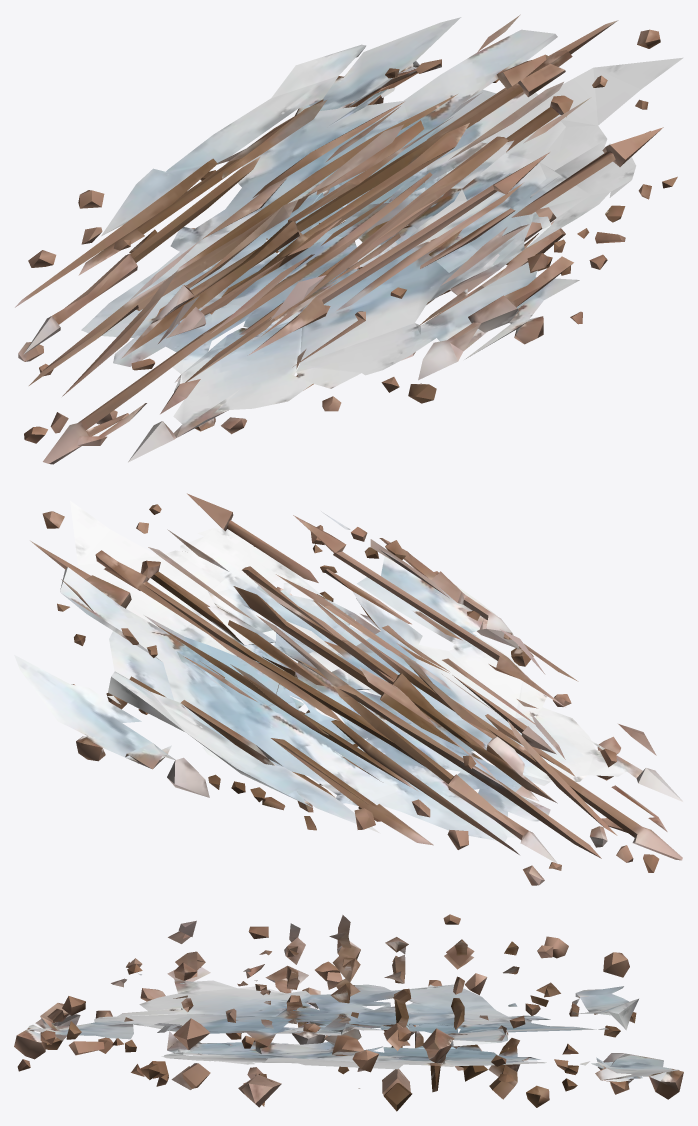
The model's file is 戰場箭雨.glb.
The picture shows the model from 3 angles, top to bottom: view 1: azimuth 30°, elevation 25°; view 2: azimuth 150°, elevation 25°; view 3: azimuth 270°, elevation 25°; orthographic projection. The views are drawn at different scales.
Parts seen in each view (by area): view 1: geometry_0; view 2: geometry_0; view 3: geometry_0.
Part boxes in pixels (x1=…): geometry_0: x1=15, y1=14, x2=683, y2=464; geometry_0: x1=14, y1=493, x2=682, y2=885; geometry_0: x1=14, y1=914, x2=683, y2=1111.
Bounding box in the file's own units: 1 × 0.367 × 0.7892.
Materials: 1 (1 with a texture image).
